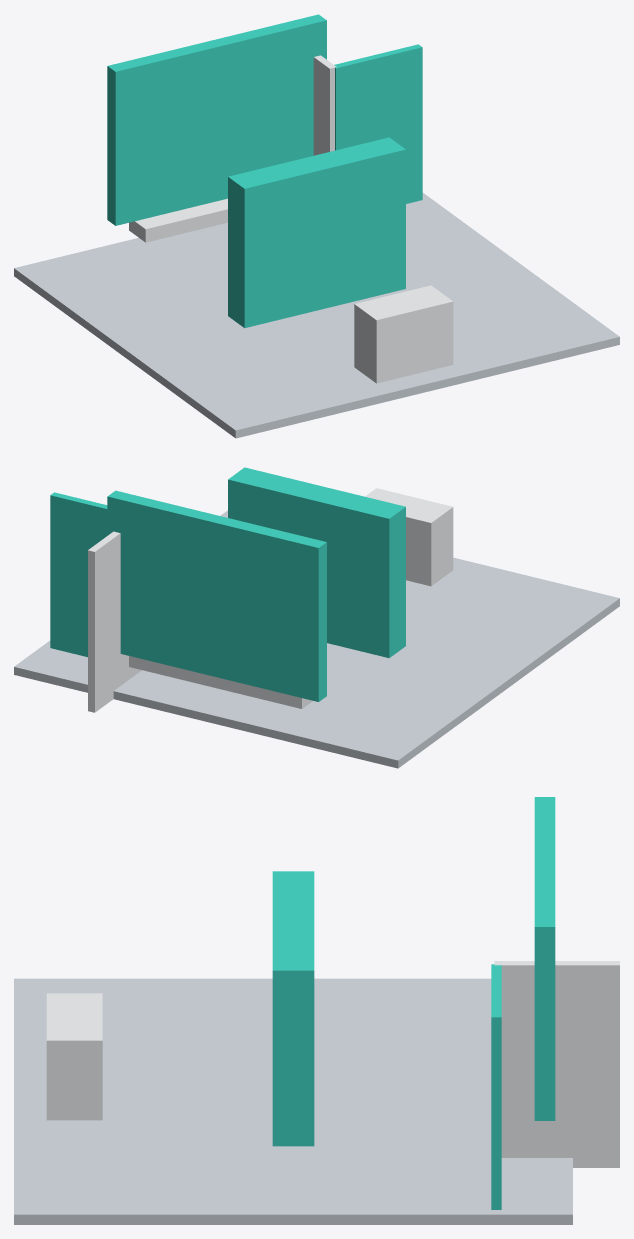
The picture shows the model from 3 angles, top to bottom: view 1: azimuth 30°, elevation 25°; view 2: azimuth 150°, elevation 25°; view 3: azimuth 270°, elevation 25°; orthographic projection. The views are drawn at different scales.
Parts seen in each view (by area): view 1: Exhibition Booth Concept; view 2: Exhibition Booth Concept; view 3: Exhibition Booth Concept.
Boxes of the visible parts, x1,y1,x2,y2 form: Exhibition Booth Concept: [14, 14, 619, 438]; Exhibition Booth Concept: [14, 467, 619, 768]; Exhibition Booth Concept: [14, 797, 619, 1224].
Bounding box in the file's own units: 6 × 2.9 × 6.51.
